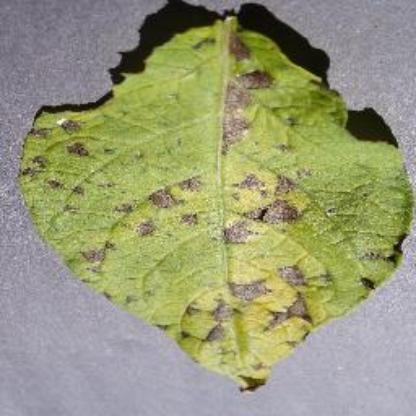Early-Blight: (17, 8, 416, 394)
